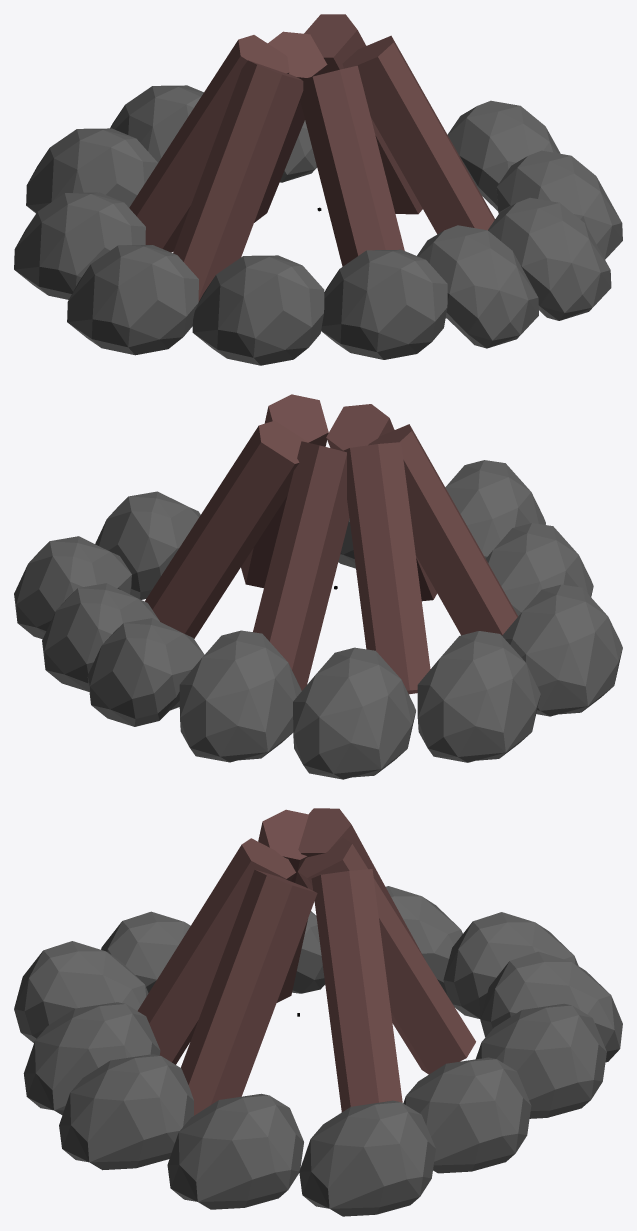
File: ognisko.fbx
3 renders of one model, top to bottom at view 1: azimuth 30°, elevation 25°; view 2: azimuth 150°, elevation 25°; view 3: azimuth 270°, elevation 25°, orthographic. The views are drawn at different scales.
Parts seen in each view (by area): view 1: ognisko; view 2: ognisko; view 3: ognisko.
Boxes of the visible parts, x1,y1,x2,y2 form: ognisko: [14, 14, 622, 365]; ognisko: [14, 394, 622, 779]; ognisko: [14, 808, 622, 1216].
Bounding box in the file's own units: 583 × 266 × 572.
